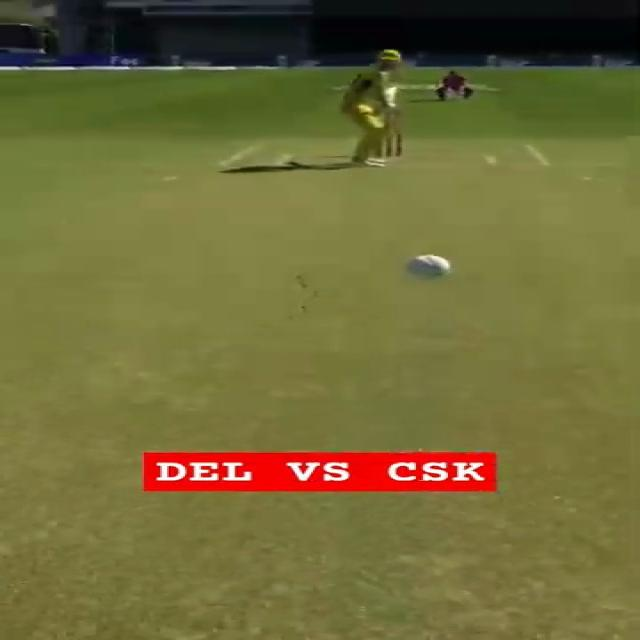ball: (398, 252, 453, 281)
